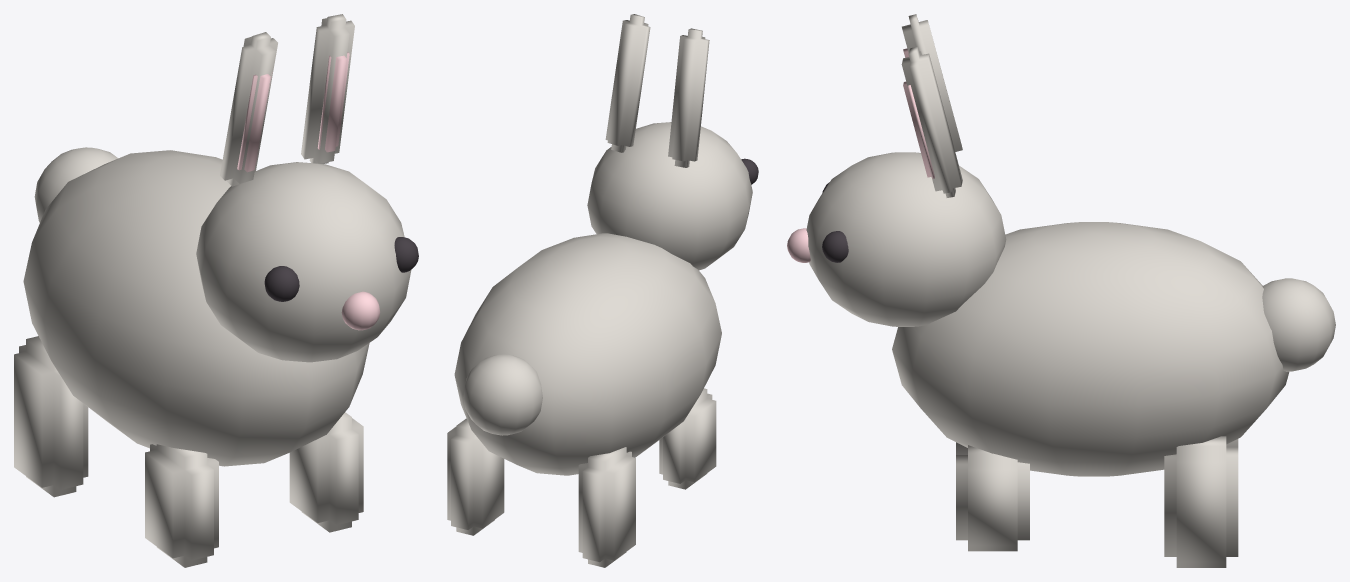
Rendered from rabbit.glb.
3 renders of one model, left to right at view 1: azimuth 30°, elevation 25°; view 2: azimuth 150°, elevation 25°; view 3: azimuth 270°, elevation 25°, orthographic. The views are drawn at different scales.
Parts seen in each view (by area): view 1: Body, Head, Leg_BL, Leg_FL, Leg_FR, Ear_R, Ear_L, Tail; view 2: Body, Head, Leg_BL, Leg_BR, Tail, Ear_L, Leg_FL, Ear_R; view 3: Body, Head, Leg_BR, Leg_FR, Tail, Ear_R, Ear_L.
Part boxes in pixels (box(x1,y1,x2,y2)): Body: box(23, 150, 369, 466); Head: box(196, 162, 418, 362); Leg_BL: box(14, 336, 88, 497); Leg_FL: box(145, 444, 218, 567); Leg_FR: box(289, 412, 363, 532); Ear_R: box(301, 14, 354, 163); Ear_L: box(220, 32, 277, 186); Tail: box(34, 147, 118, 222); Body: box(454, 233, 721, 475); Head: box(587, 122, 758, 270); Leg_BL: box(578, 447, 635, 567); Leg_BR: box(447, 418, 504, 535); Tail: box(463, 354, 542, 435); Ear_L: box(668, 28, 709, 167); Leg_FL: box(659, 388, 716, 489); Ear_R: box(605, 14, 650, 152); Body: box(892, 222, 1289, 476); Head: box(787, 152, 1006, 326); Leg_BR: box(1164, 436, 1238, 567); Leg_FR: box(956, 445, 1029, 551); Tail: box(1262, 278, 1335, 371); Ear_R: box(901, 47, 962, 197); Ear_L: box(902, 14, 962, 151).
Bounding box in the file's own units: 0.39 × 0.808 × 0.816.
